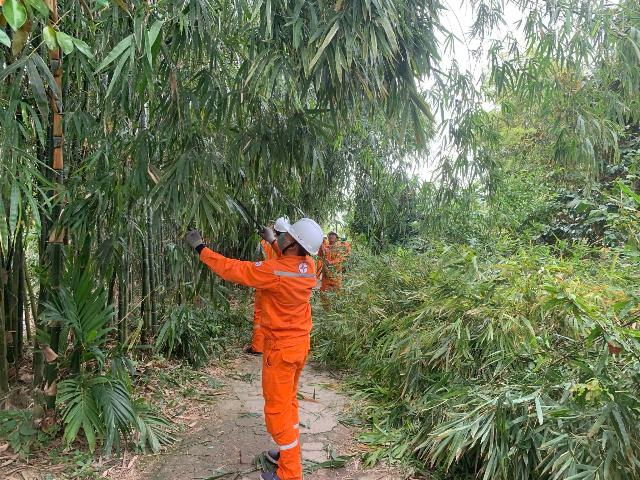harness: (183, 225, 212, 254), (250, 222, 275, 253)
helmet: (288, 219, 327, 257), (263, 211, 293, 233), (325, 227, 341, 241), (339, 234, 350, 241), (320, 233, 328, 239)
shoes: (260, 443, 296, 469), (259, 465, 299, 480), (239, 344, 263, 359)
